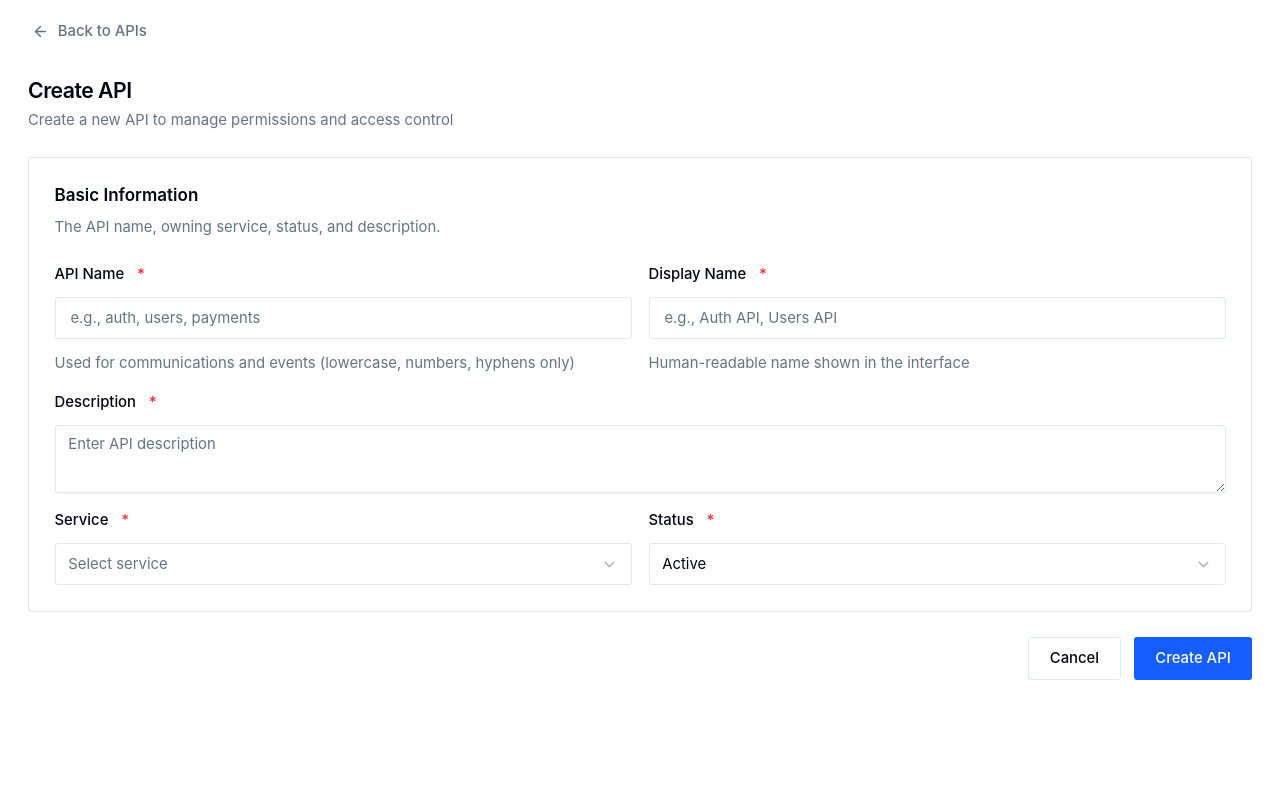
ApiAddOrUpdateForm › sanitizes the API name as a slug while typing
The image size is (1280, 812).
Type "billing_api!" into the field labelled "API Name *" at (343, 318), box x1=54 y1=297 x2=632 y2=340
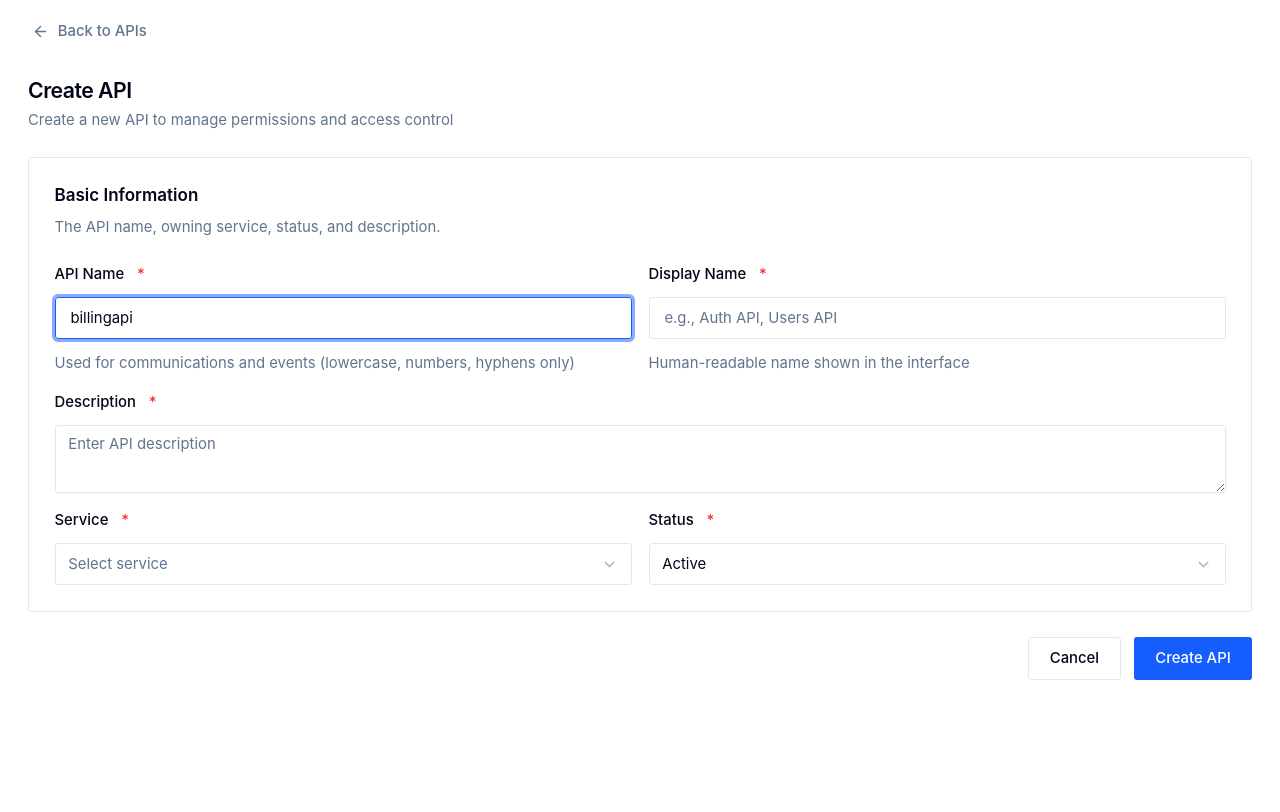
Expected: the field labelled "API Name *" holds "billingapi", x1=54 y1=297 x2=632 y2=340
